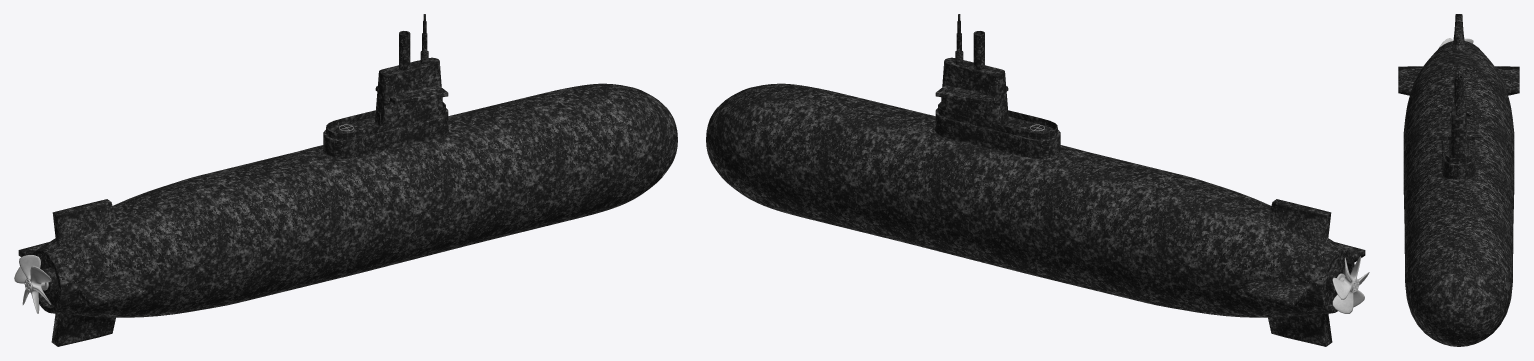
File: submarine.glb
3 renders of one model, left to right at view 1: azimuth 30°, elevation 25°; view 2: azimuth 150°, elevation 25°; view 3: azimuth 270°, elevation 25°, orthographic. The views are drawn at different scales.
Visible parts, largest first — view 1: sub; view 2: sub; view 3: sub.
Boxes of the visible parts, box(x1,y1,x2,y2) form: sub: box(14, 14, 677, 346); sub: box(706, 14, 1369, 346); sub: box(1398, 14, 1519, 346).
Size of the model in its own units: 5.71 by 2.03 by 1.11.
4 materials, 4 textured.
